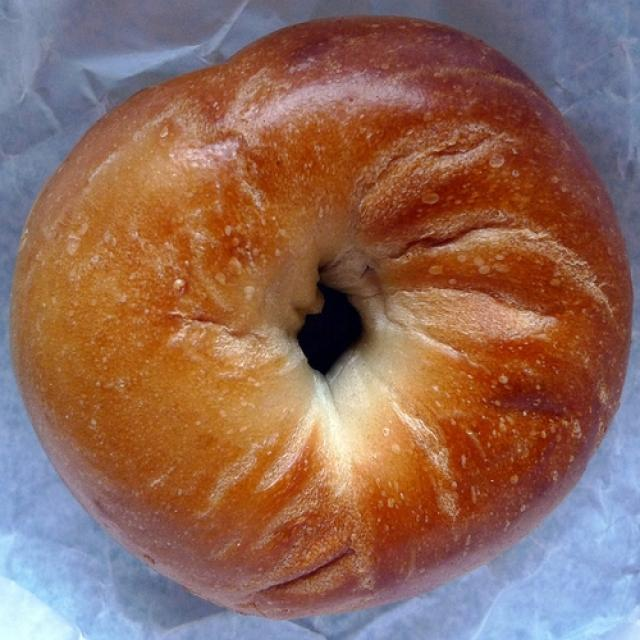面包点心: (4, 10, 631, 618)
